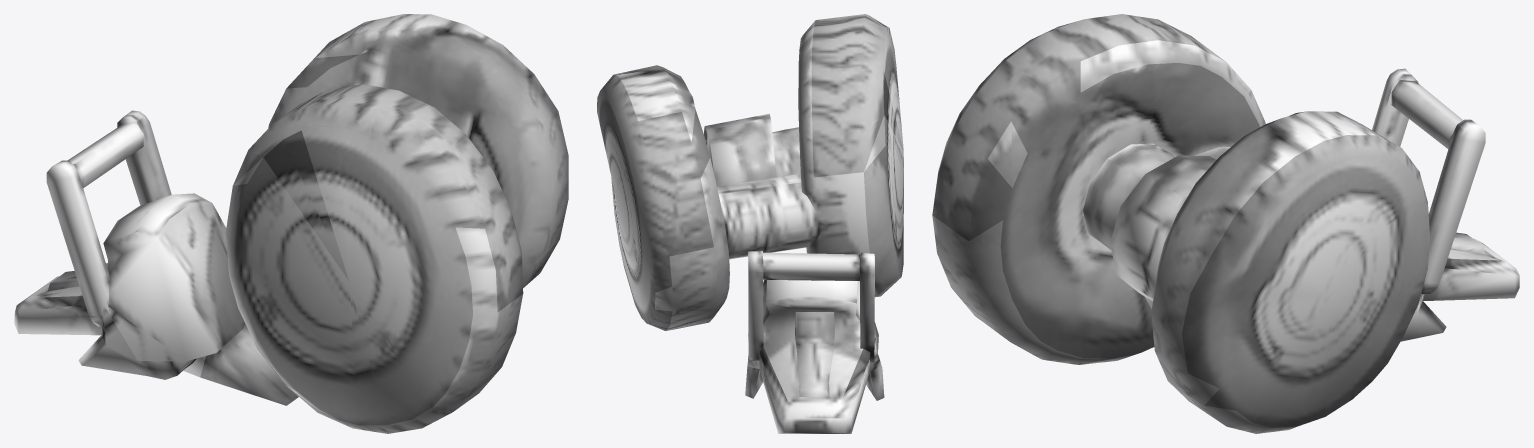
The model's file is br_foot.glb.
3 views of the same model, side by side, from view 1: azimuth 30°, elevation 25°; view 2: azimuth 150°, elevation 25°; view 3: azimuth 270°, elevation 25° (orthographic). The views are drawn at different scales.
Parts seen in each view (by area): view 1: br_foot; view 2: br_foot; view 3: br_foot.
Part boxes in pixels (<box>): br_foot: <box>14,14,568,433</box>; br_foot: <box>597,14,903,433</box>; br_foot: <box>932,14,1519,433</box>.
Size of the model in its own units: 1.11 by 0.8317 by 1.29.
Materials: 3 (3 with a texture image).
